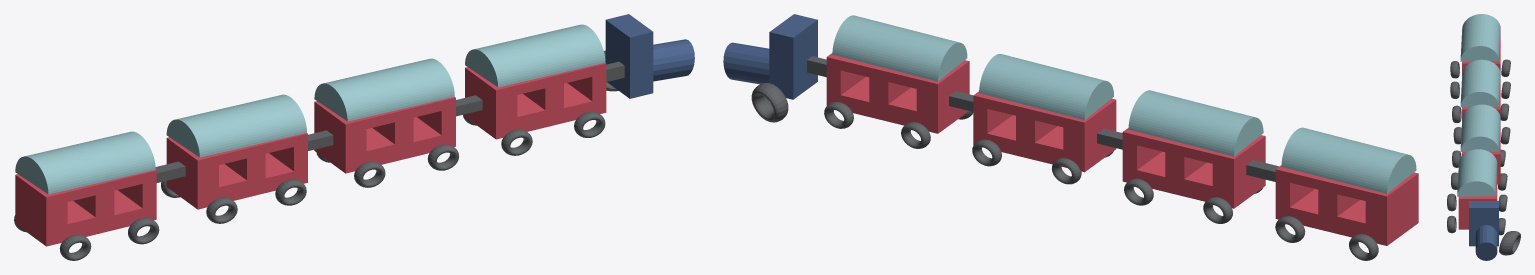
File: train.glb
3 renders of one model, left to right at view 1: azimuth 30°, elevation 25°; view 2: azimuth 150°, elevation 25°; view 3: azimuth 270°, elevation 25°, orthographic. The views are drawn at different scales.
Visible parts, largest first — view 1: Mesh_Mesh_head_geo.001_lambert2SG.001; view 2: Mesh_Mesh_head_geo.001_lambert2SG.001; view 3: Mesh_Mesh_head_geo.001_lambert2SG.001.
Part boxes in pixels (left/top/right/bottom): Mesh_Mesh_head_geo.001_lambert2SG.001: left=14, top=14, right=694, bottom=260; Mesh_Mesh_head_geo.001_lambert2SG.001: left=723, top=14, right=1418, bottom=260; Mesh_Mesh_head_geo.001_lambert2SG.001: left=1447, top=14, right=1520, bottom=260.
Bounding box in the file's own units: 282 × 38.14 × 44.
